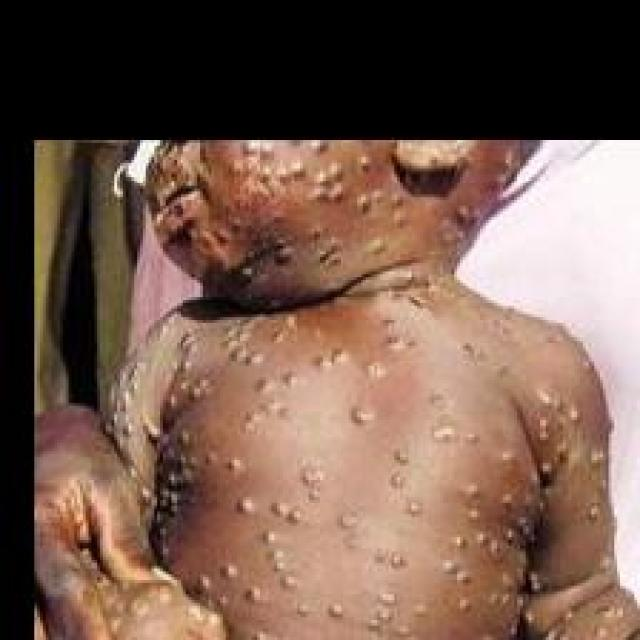monkeypox: (68, 148, 637, 640)
